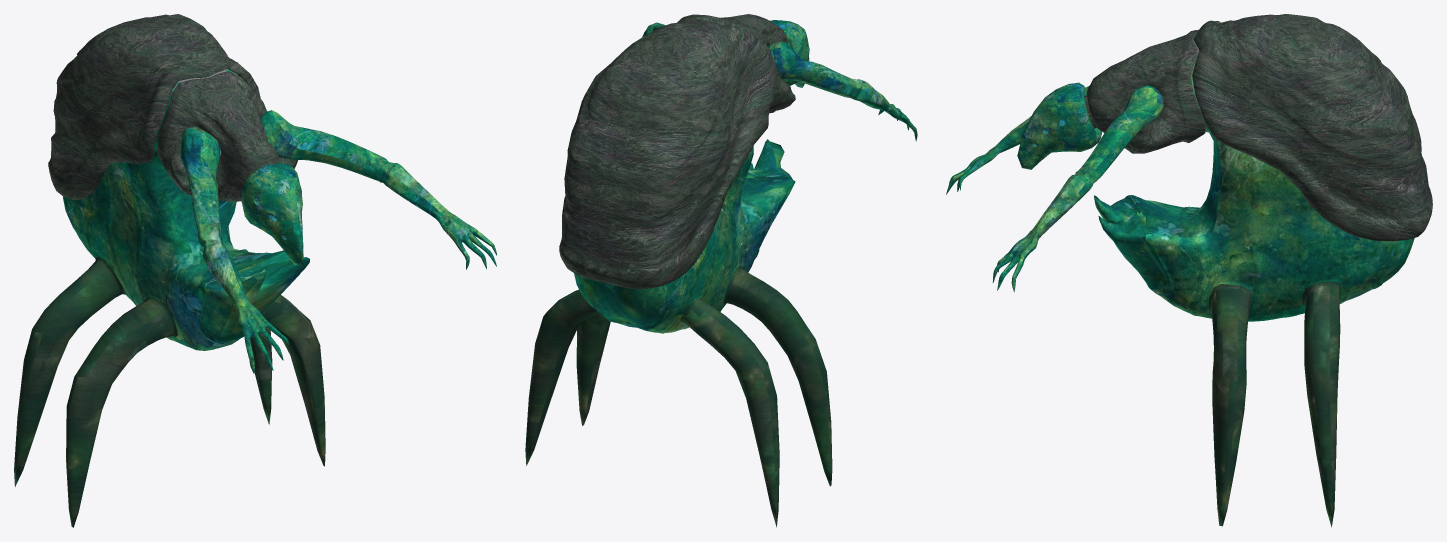
File: Aranar.0019.obj
3 views of the same model, side by side, from view 1: azimuth 30°, elevation 25°; view 2: azimuth 150°, elevation 25°; view 3: azimuth 270°, elevation 25° (orthographic).
Size of the model in its own units: 2.86 by 3.82 by 3.81.
Materials: 5 (4 with a texture image).
